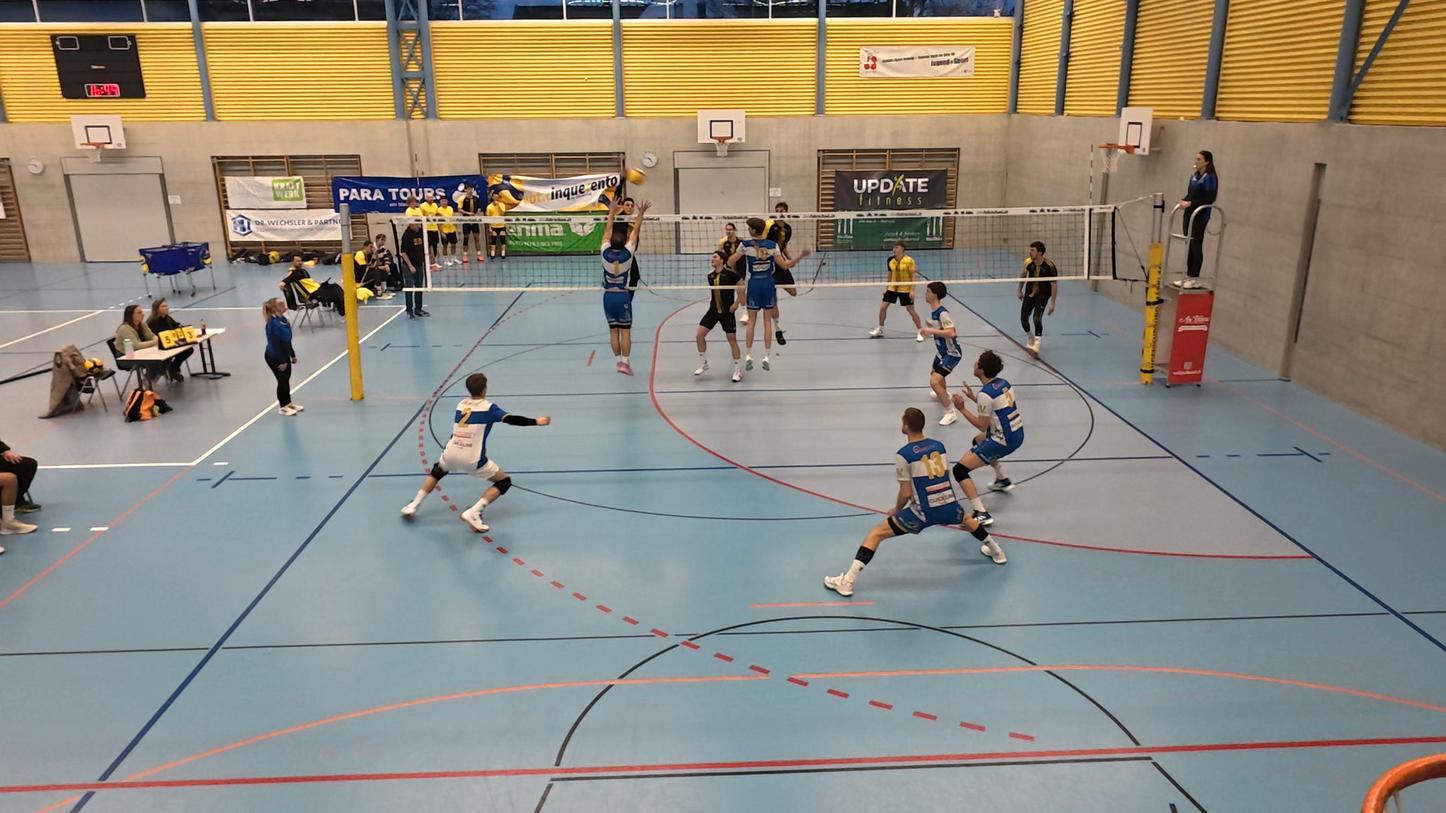Attack: (601, 162, 652, 316)
Player: (824, 408, 1006, 597), (400, 372, 551, 530), (941, 354, 1021, 495), (696, 242, 750, 382), (917, 281, 967, 423), (738, 219, 787, 356), (870, 244, 925, 338), (708, 210, 753, 323), (1016, 241, 1057, 361), (768, 226, 804, 349)
ball: (622, 163, 648, 189)
